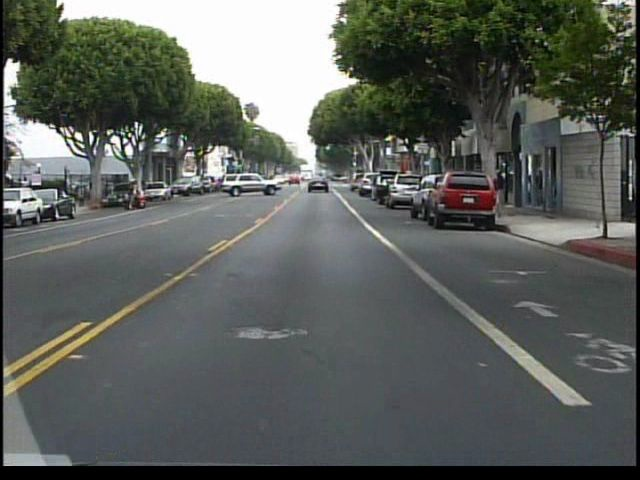person: (129, 178, 148, 210)
